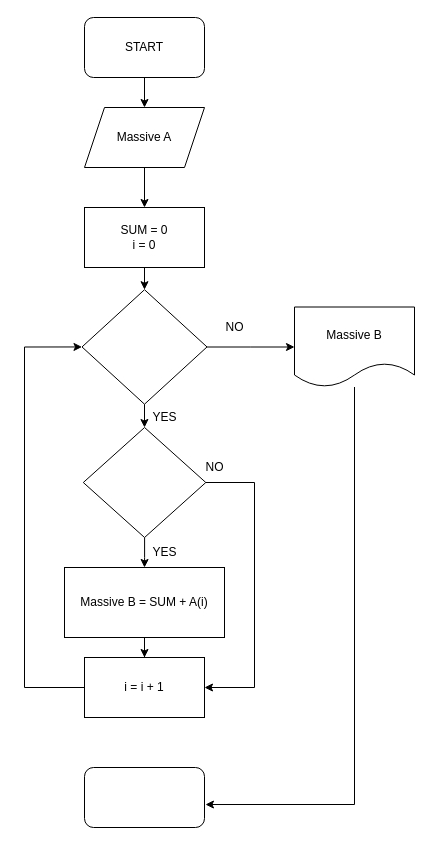
Image size: 432x845. Some labels were removed from this diagram. The centre of each missing label's shape, as x and y in pixels:
"A(i) =< 3" goes at [144,482].
"i < length A" goes at [144,346].
"STOP" goes at [144,797].
